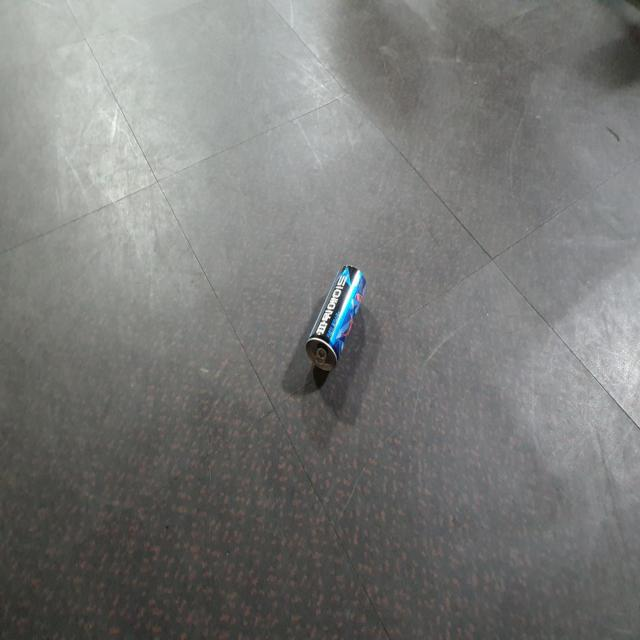can: (306, 265, 367, 371)
